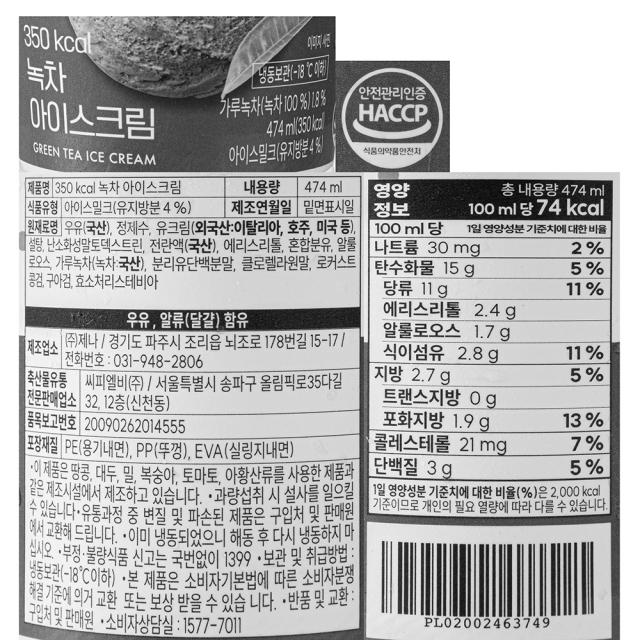Nutrition Label: (367, 175, 620, 523)
